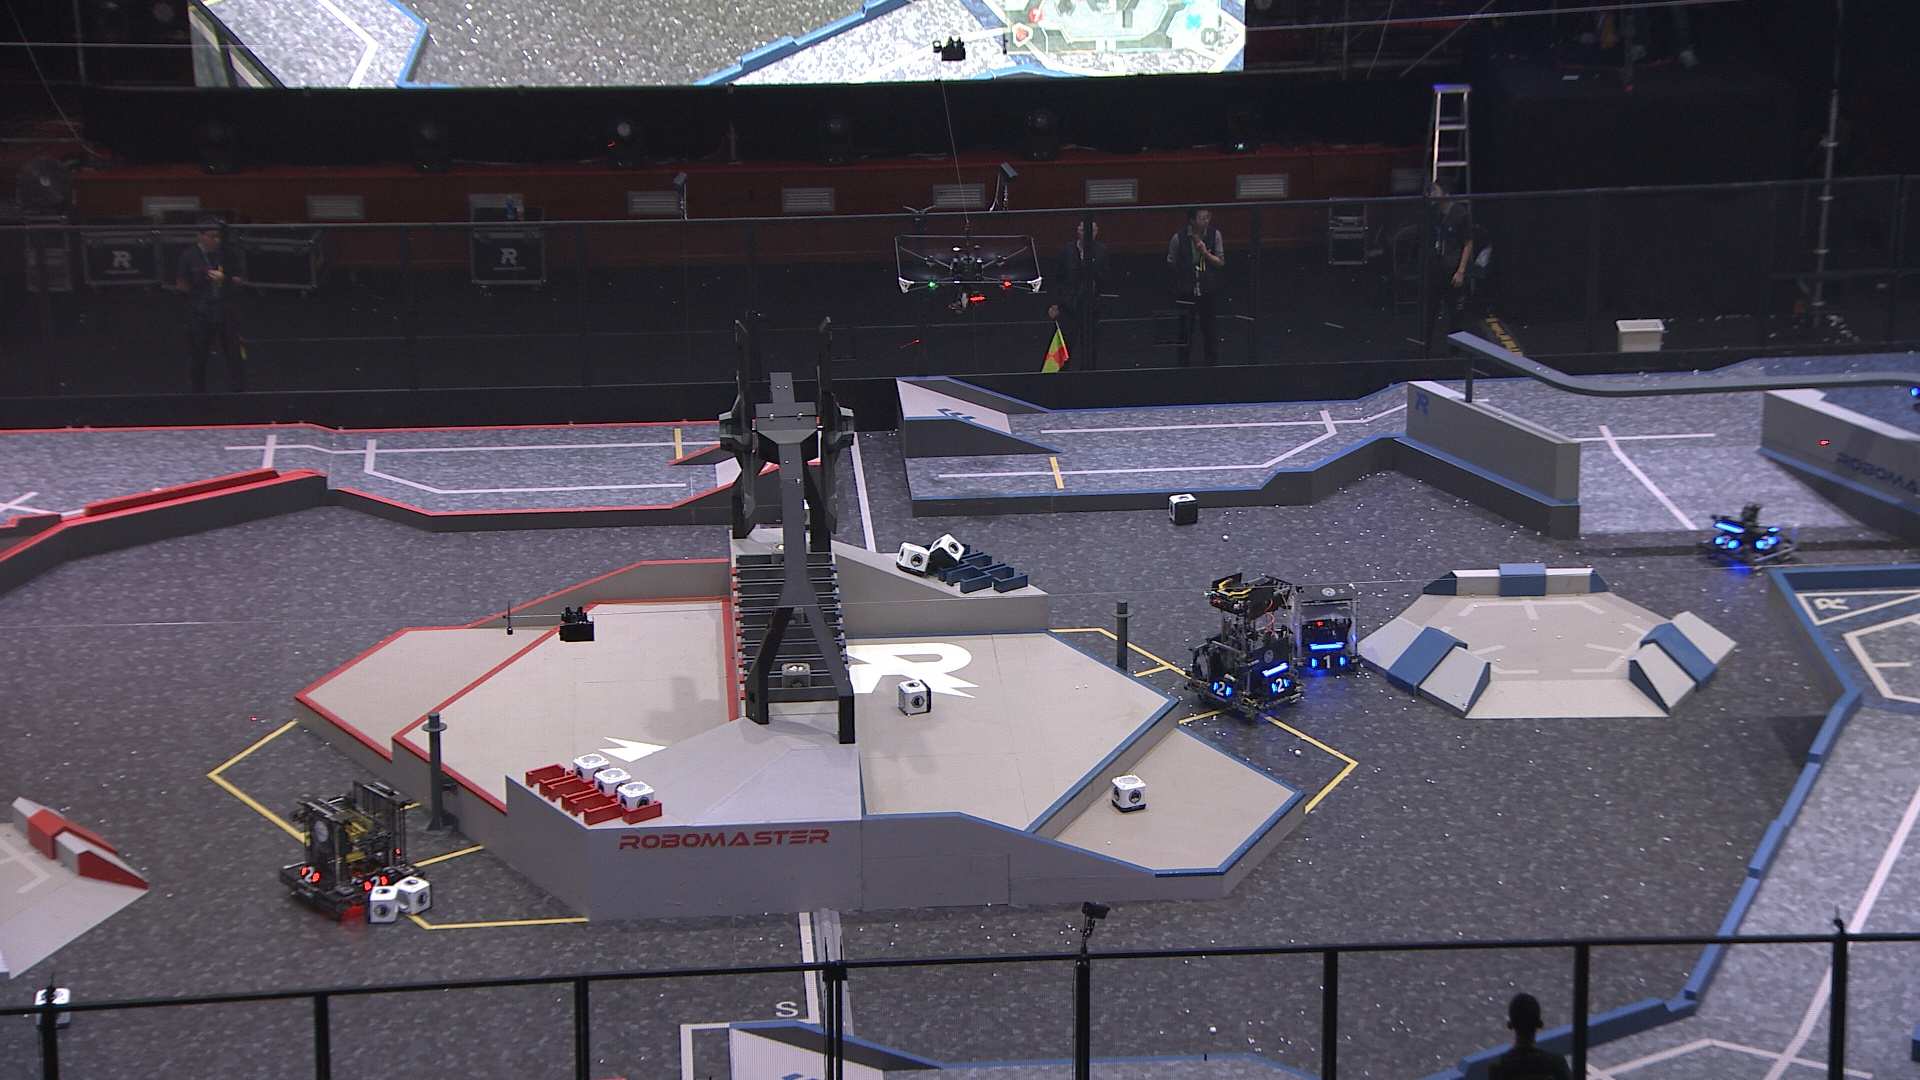armor: (1313, 654, 1346, 670), (363, 873, 389, 893), (295, 865, 320, 885), (1716, 531, 1738, 550), (1269, 676, 1290, 695), (1215, 680, 1233, 699), (1756, 533, 1776, 550), (1907, 381, 1920, 400)
car: (276, 777, 427, 922), (1185, 564, 1305, 723), (1276, 576, 1371, 680), (1704, 500, 1797, 571)
watcher: (1904, 363, 1920, 423)
